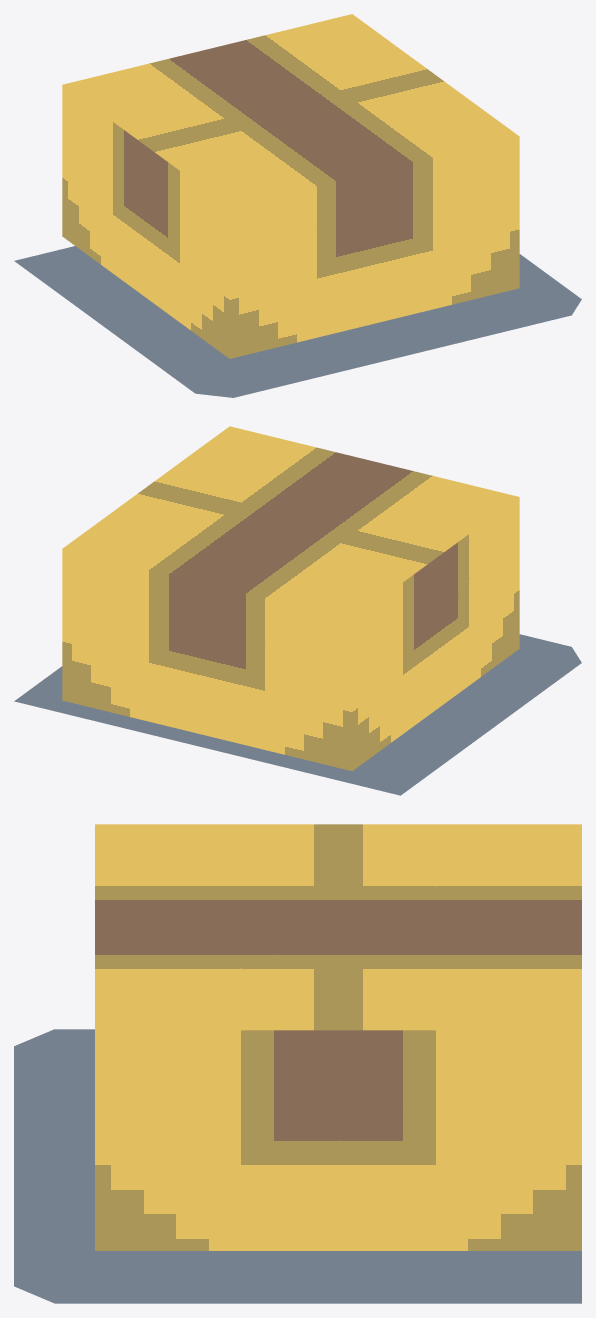
3 views of the same model, one above another, from view 1: azimuth 30°, elevation 25°; view 2: azimuth 150°, elevation 25°; view 3: azimuth 270°, elevation 25° (orthographic). The views are drawn at different scales.
Parts seen in each view (by area): view 1: 01_polygon0, 00_polygon1; view 2: 01_polygon0, 00_polygon1; view 3: 01_polygon0, 00_polygon1.
Part boxes in pixels (x1,y1,x2,y2): 01_polygon0: (62,14,519,358); 00_polygon1: (14,246,581,397); 01_polygon0: (62,426,519,770); 00_polygon1: (14,634,581,795); 01_polygon0: (95,824,581,1250); 00_polygon1: (14,1029,581,1303).
Bounding box in the file's own units: 0.5 × 0.2031 × 0.4375.
Materials: 1 (1 with a texture image).
